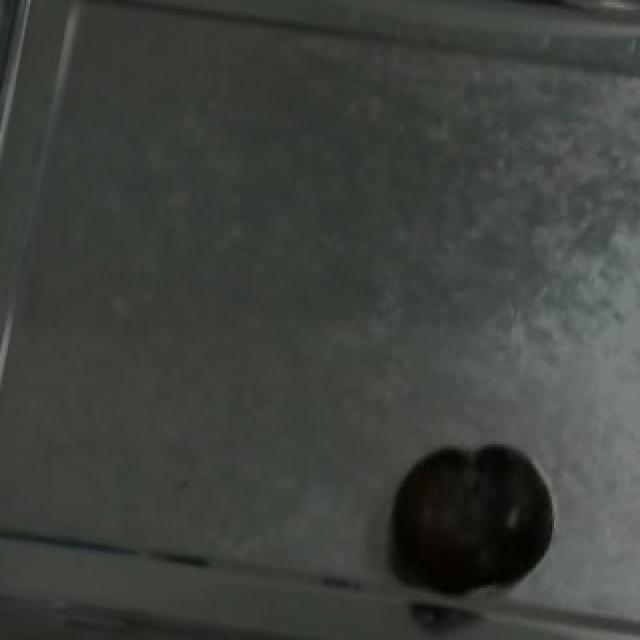Fruit: (380, 432, 572, 610)
